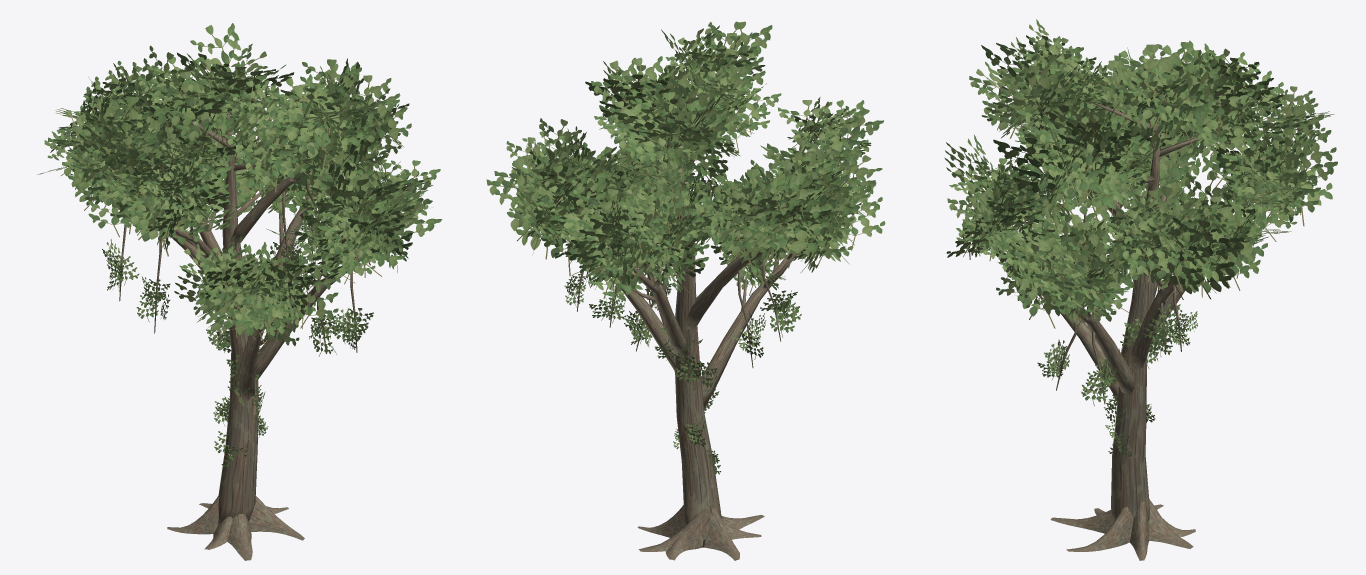
The model's file is rainforest-tree-3.glb.
The picture shows the model from 3 angles, left to right: view 1: azimuth 30°, elevation 25°; view 2: azimuth 150°, elevation 25°; view 3: azimuth 270°, elevation 25°; orthographic projection. The views are drawn at different scales.
Parts seen in each view (by area): view 1: Rainforest foliage, Woody skeleton; view 2: Rainforest foliage, Woody skeleton; view 3: Rainforest foliage, Woody skeleton.
Part boxes in pixels (x1,y1,x2,y2): Rainforest foliage: [37, 23, 442, 467]; Woody skeleton: [119, 112, 358, 560]; Rainforest foliage: [486, 21, 885, 474]; Woody skeleton: [569, 85, 835, 560]; Rainforest foliage: [944, 19, 1337, 456]; Woody skeleton: [991, 101, 1264, 560].
Size of the model in its own units: 20.27 by 26 by 20.21.
2 materials, 2 textured.
